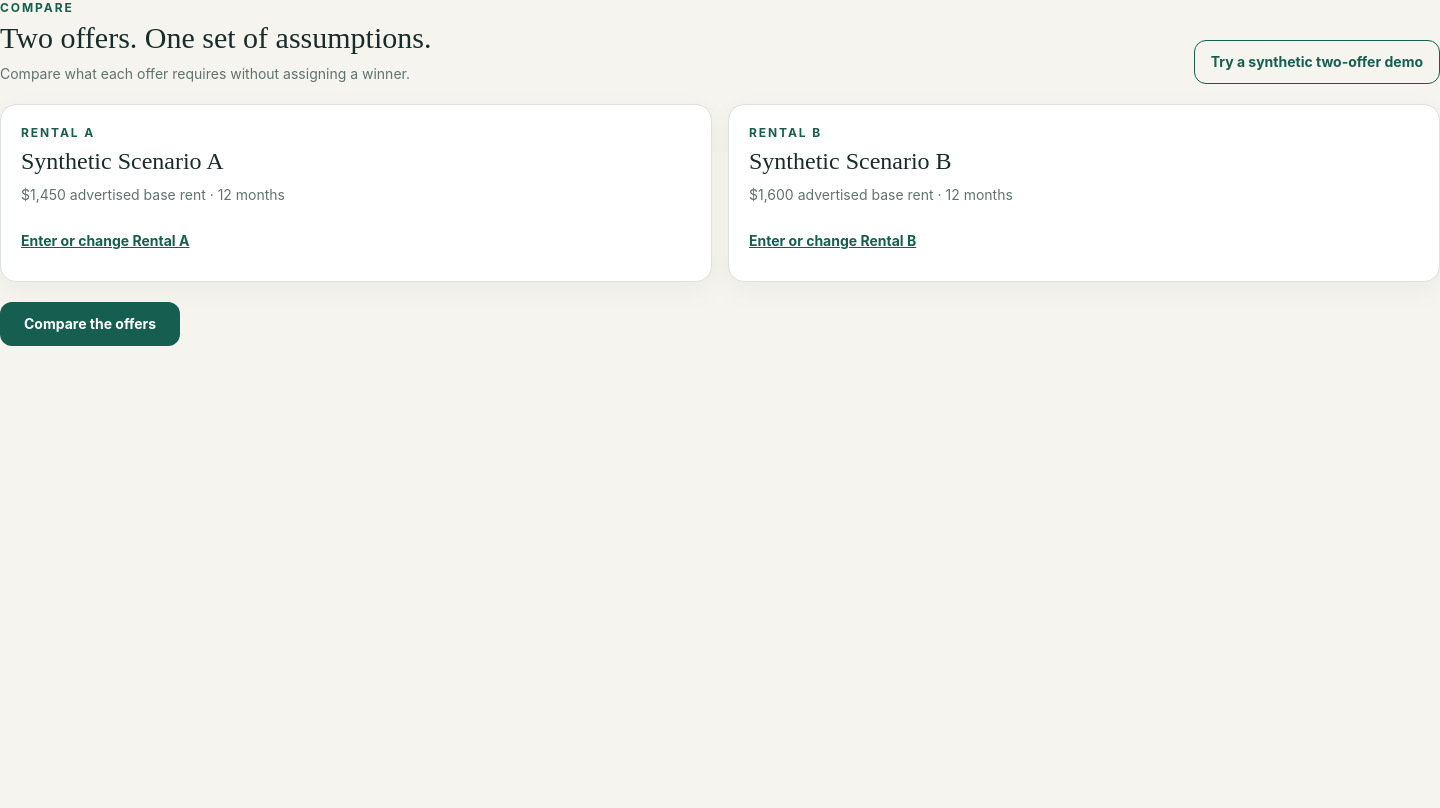
Test case: financial results, stress, and comparison › compares two saved offers using the API response and flags unequal terms
What coordinates should you click on to do the following:
click the button "Compare the offers"
I would click on:
 (90, 324)
Its box is [0,302,180,346].
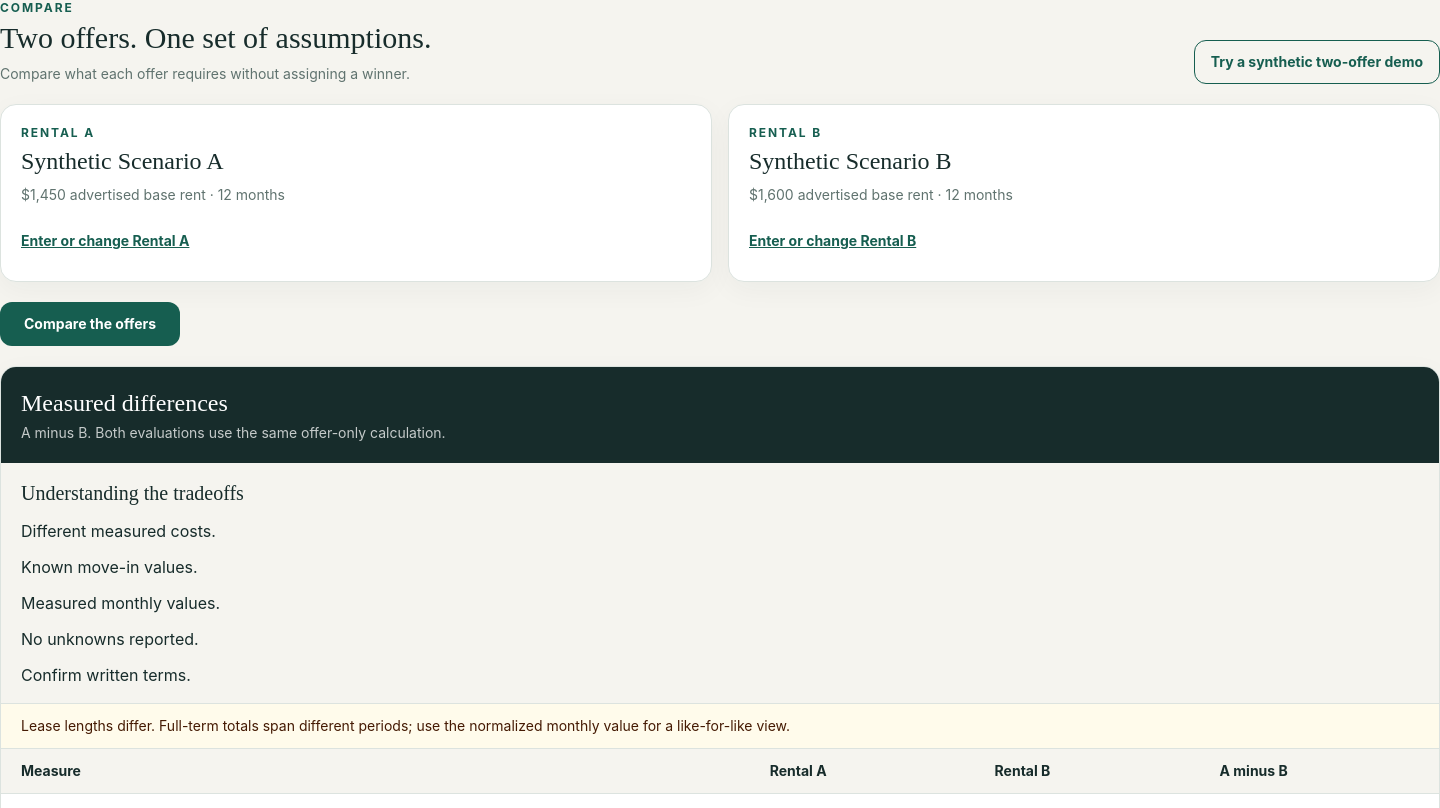
Now the text "Lease lengths differ" is shown, box [21,717,790,734]
Now the heading "Measured differences" is shown, box [21,390,228,416]
